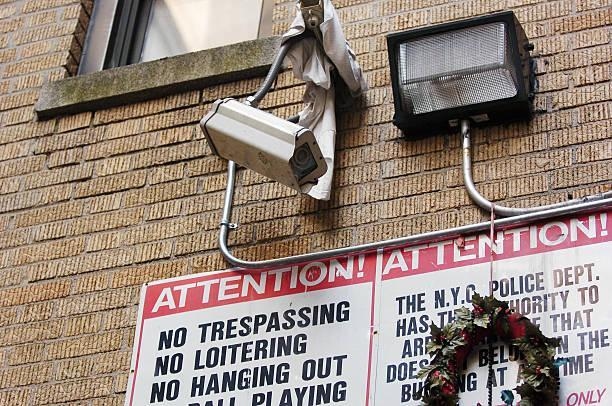camera: (194, 82, 331, 198)
